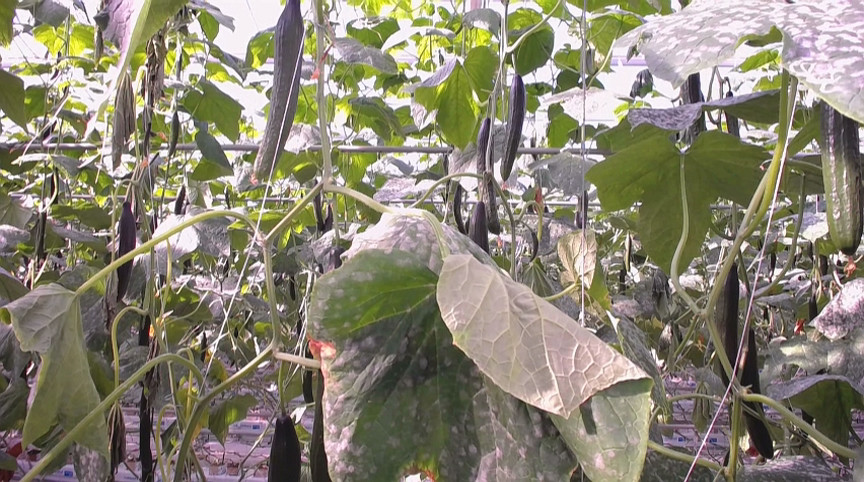cucumber: (253, 1, 302, 178), (818, 102, 859, 255), (477, 114, 502, 234), (715, 265, 739, 387), (501, 76, 524, 179), (268, 416, 302, 482), (116, 200, 138, 300), (469, 202, 492, 252)
